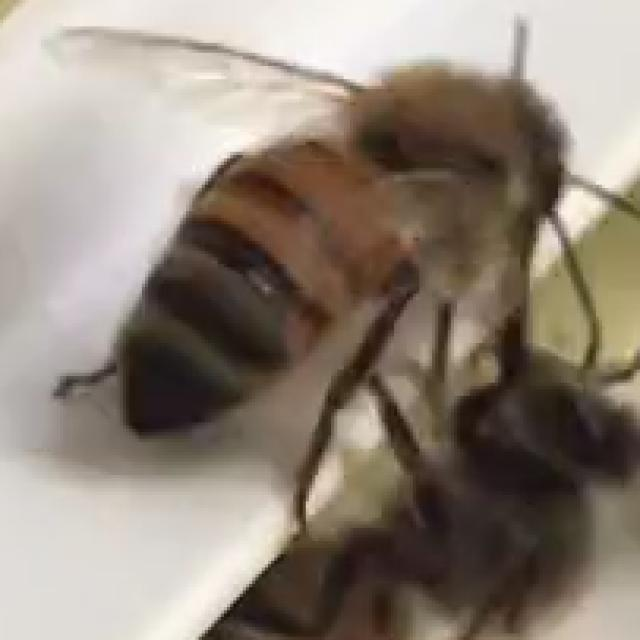honeybee: (48, 16, 590, 436), (287, 297, 612, 640)
